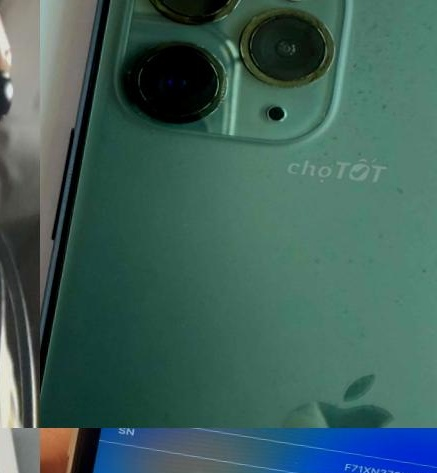scratch: (115, 0, 334, 137), (324, 0, 437, 134), (387, 161, 417, 214), (340, 240, 373, 279), (416, 260, 435, 284)
